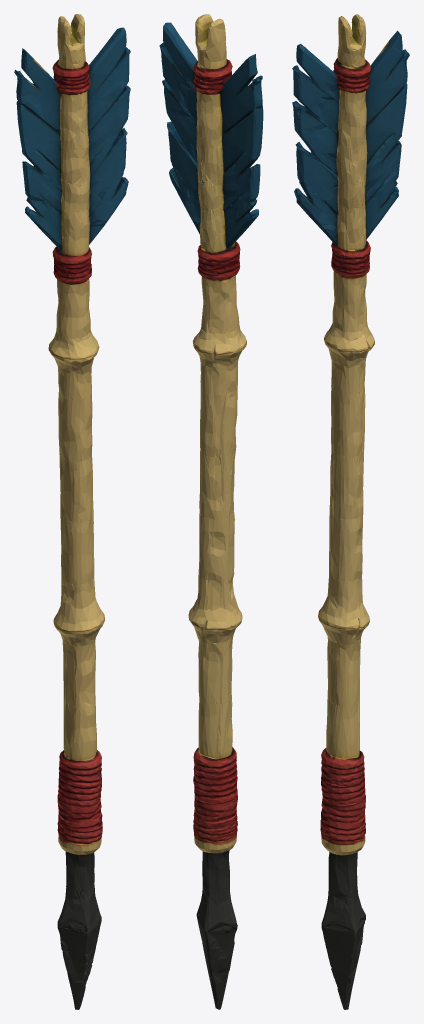
File: fleche.glb
3 renders of one model, left to right at view 1: azimuth 90°, elevation 25°; view 2: azimuth 210°, elevation 25°; view 3: azimuth 270°, elevation 25°, orthographic.
Parts seen in each view (by area): view 1: tripo_node_c0983ffa-839b-4c59-9db3-2cf68cbe45d2; view 2: tripo_node_c0983ffa-839b-4c59-9db3-2cf68cbe45d2; view 3: tripo_node_c0983ffa-839b-4c59-9db3-2cf68cbe45d2.
Boxes of the visible parts, x1,y1,x2,y2 form: tripo_node_c0983ffa-839b-4c59-9db3-2cf68cbe45d2: (14,14,130,1009); tripo_node_c0983ffa-839b-4c59-9db3-2cf68cbe45d2: (159,14,263,1009); tripo_node_c0983ffa-839b-4c59-9db3-2cf68cbe45d2: (292,14,409,1009).
Bounding box in the file's own units: 0.0823 × 1.32 × 0.1414.
1 material, 1 textured.
